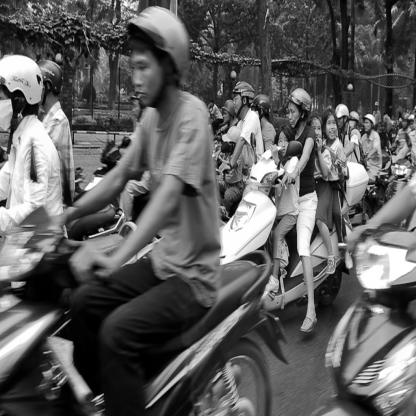Helmet: (126, 5, 188, 84), (4, 54, 44, 115), (38, 61, 66, 108), (288, 87, 312, 131), (232, 80, 257, 118), (249, 96, 273, 120), (334, 104, 348, 134), (222, 99, 236, 120), (363, 112, 376, 130), (350, 110, 360, 124), (408, 115, 416, 126), (402, 112, 410, 121)
